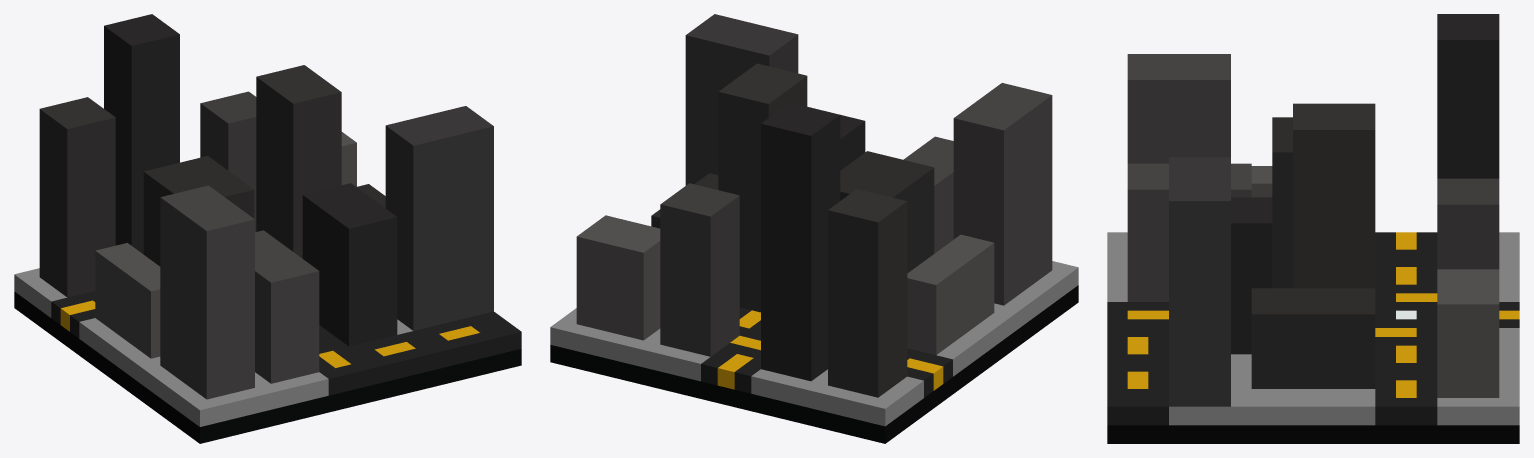
Rendered from City.fbx.
The picture shows the model from 3 angles, left to right: view 1: azimuth 30°, elevation 25°; view 2: azimuth 150°, elevation 25°; view 3: azimuth 270°, elevation 25°; orthographic projection. The views are drawn at different scales.
Visible parts, largest first — view 1: Untitled; view 2: Untitled; view 3: Untitled.
Part boxes in pixels (box(x1,y1,x2,y2)): Untitled: box(14, 14, 521, 443); Untitled: box(550, 14, 1078, 443); Untitled: box(1107, 14, 1519, 443).
Bounding box in the file's own units: 400 × 320 × 400.
